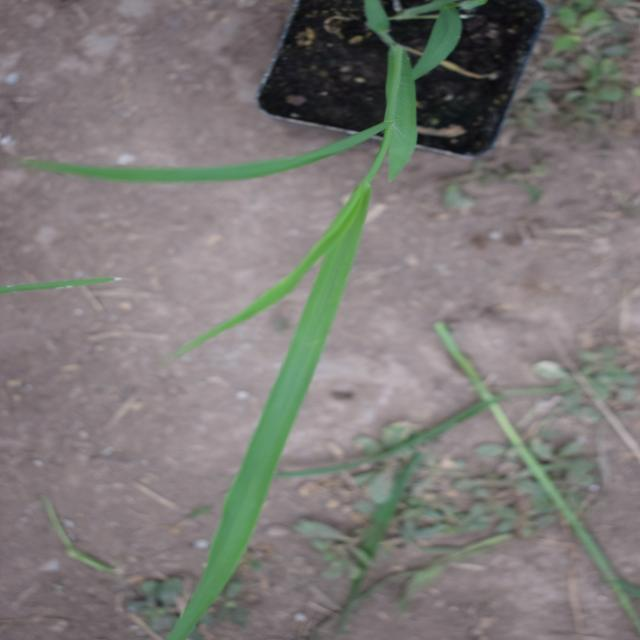crabgrass: (57, 223, 618, 573)
